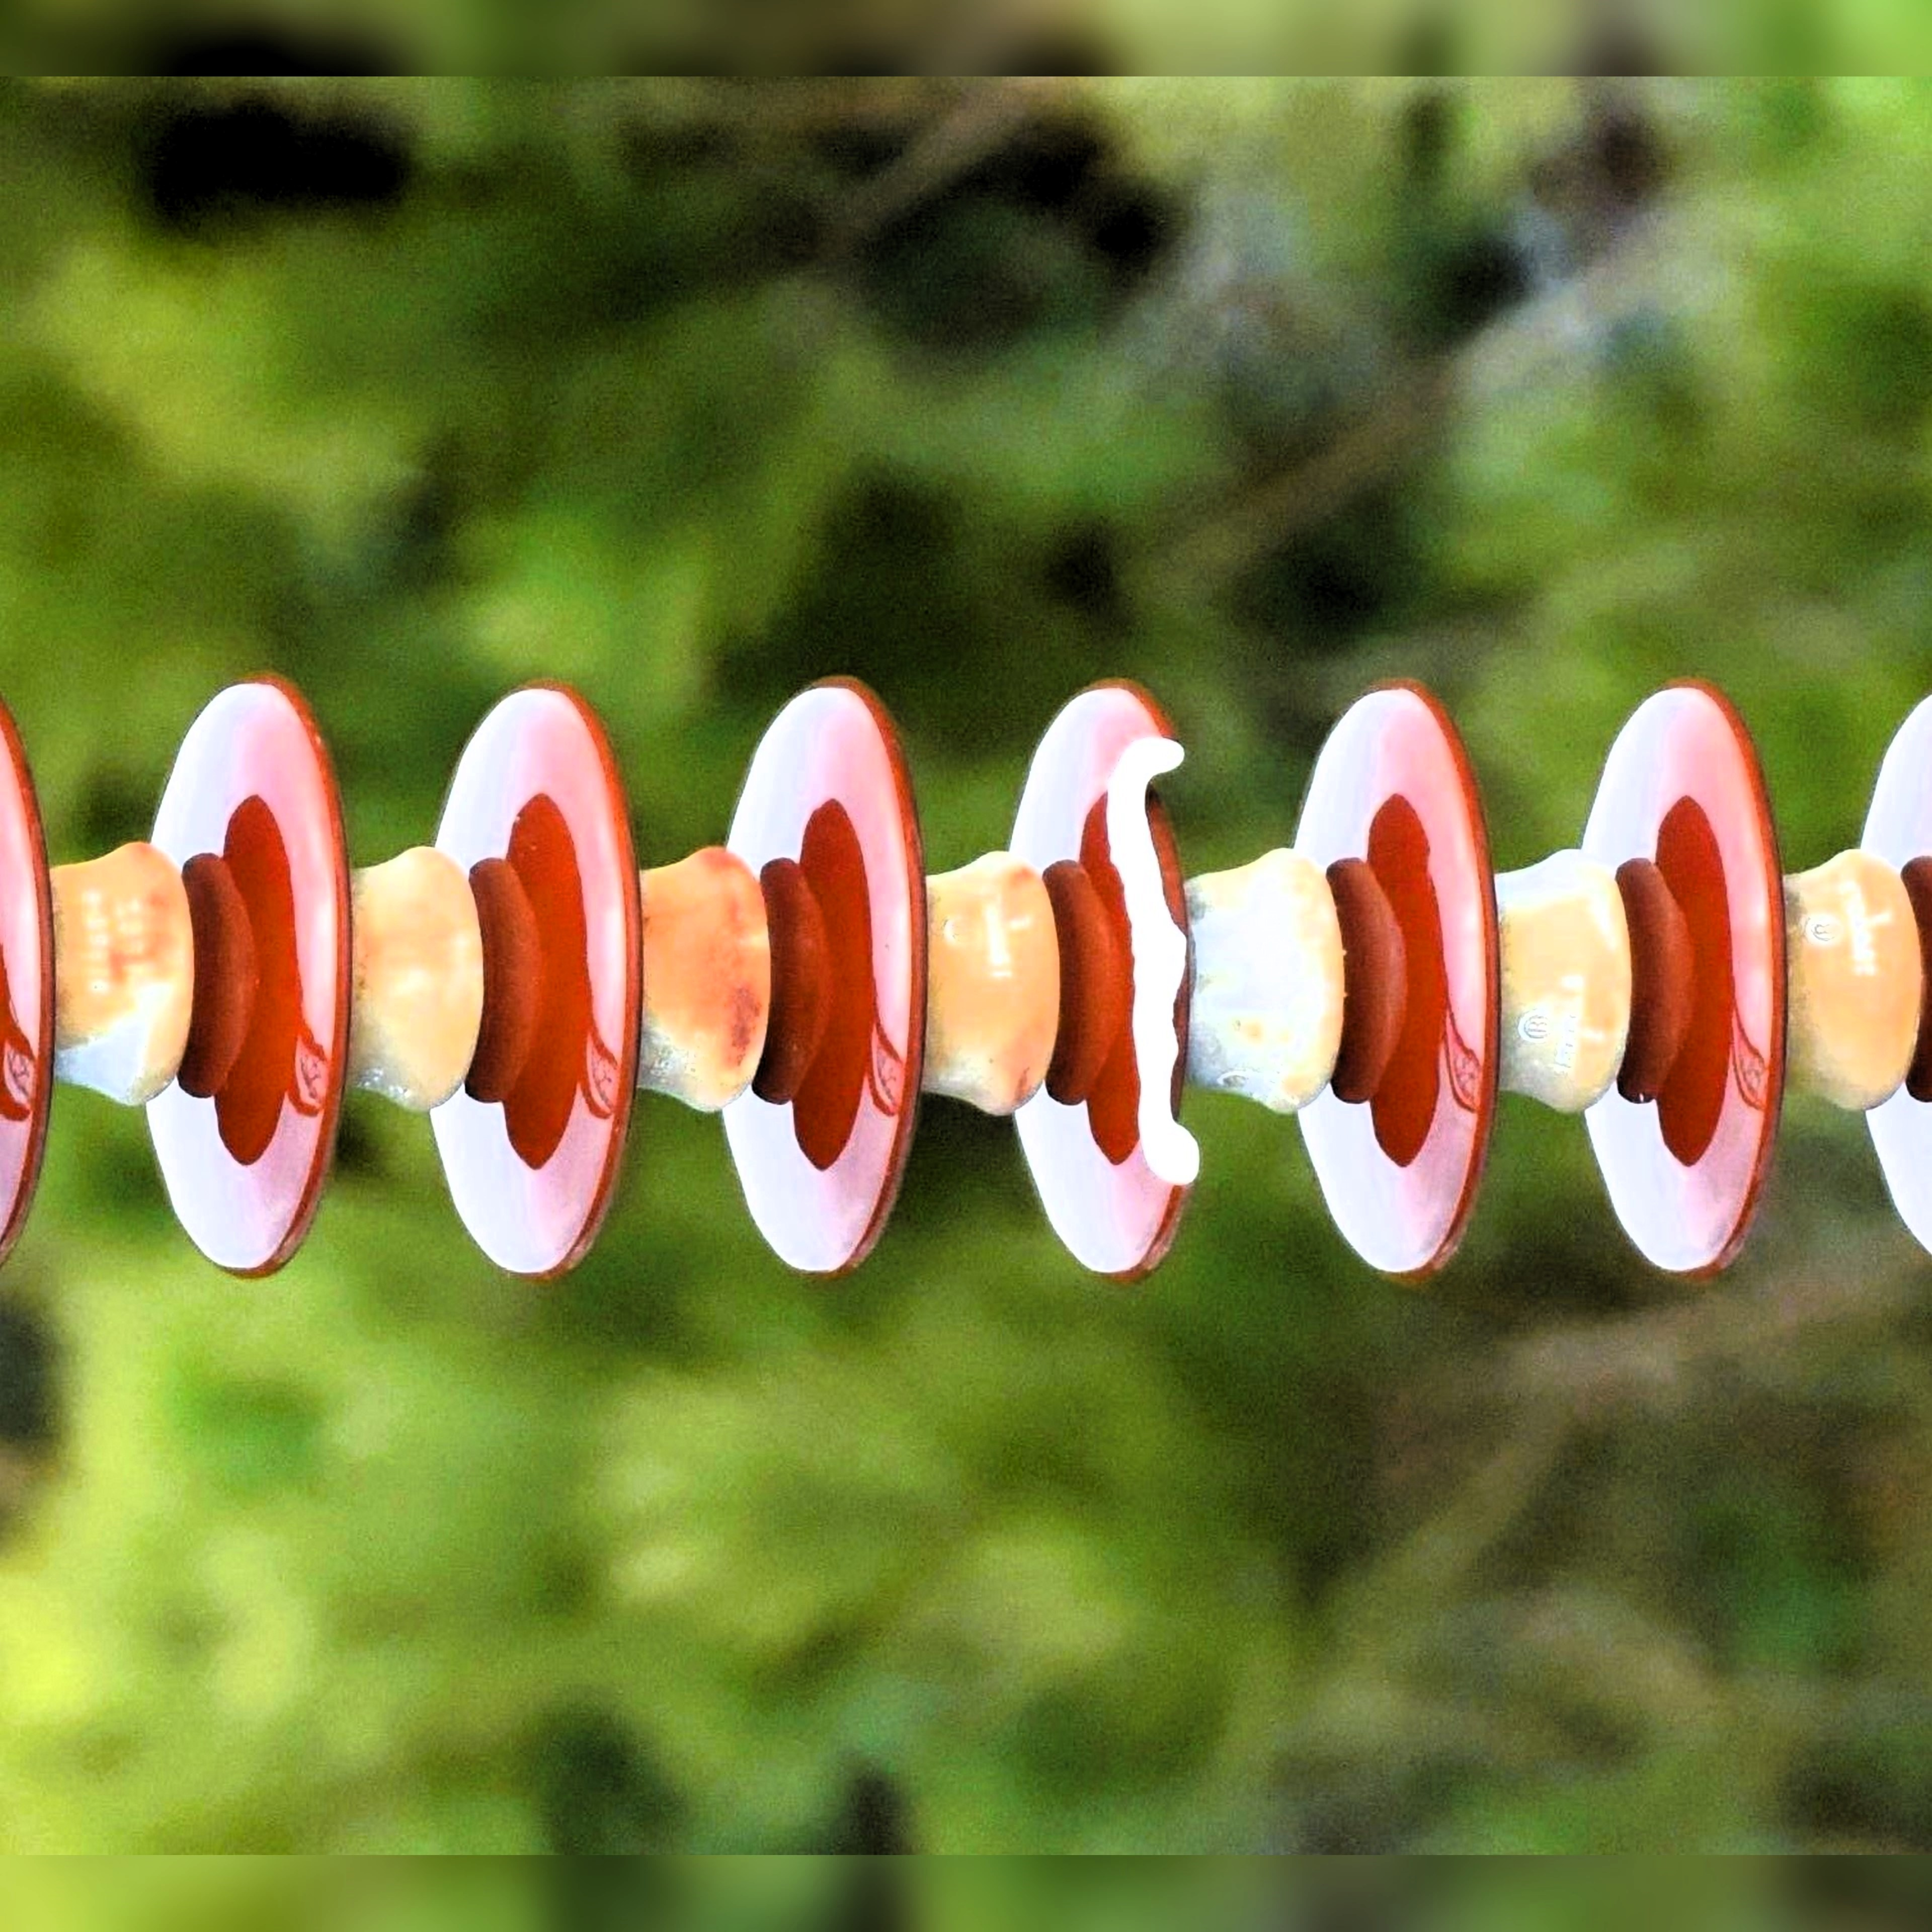insulator breakage: (1001, 681, 1247, 1283)
